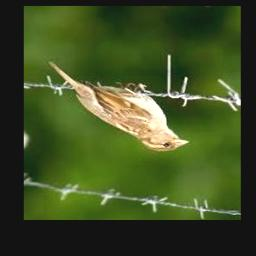Sparrow: (47, 62, 190, 152)
